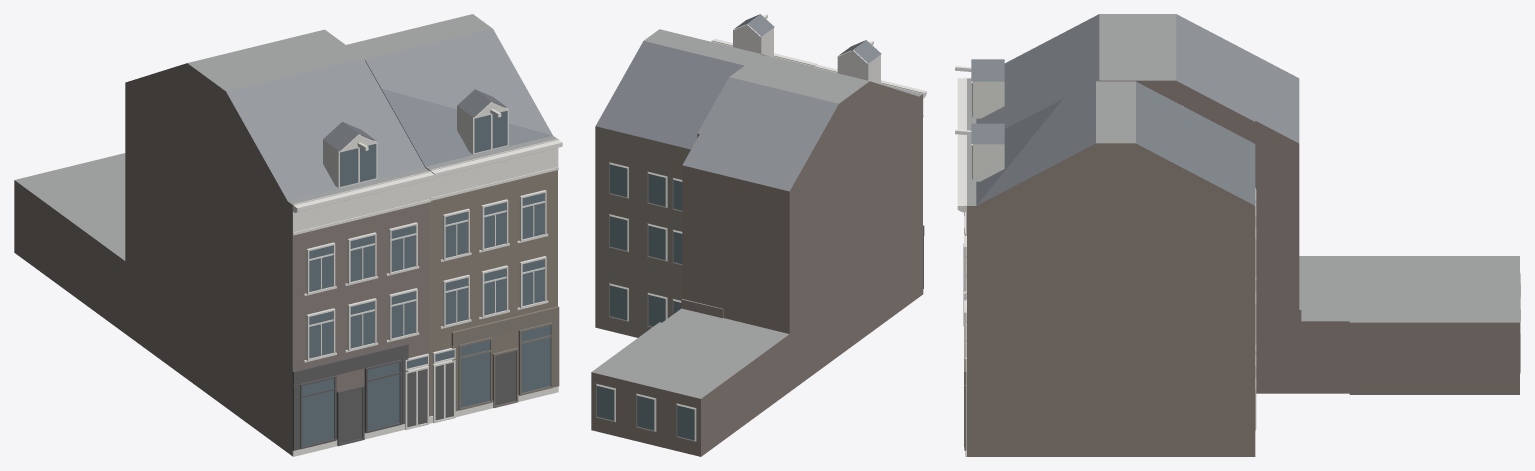
File: chunk-face-bol-12-22-r2.glb
3 views of the same model, side by side, from view 1: azimuth 30°, elevation 25°; view 2: azimuth 150°, elevation 25°; view 3: azimuth 270°, elevation 25° (orthographic). The views are drawn at different scales.
Parts seen in each view (by area): view 1: face-bol-12-22-r2; view 2: face-bol-12-22-r2; view 3: face-bol-12-22-r2.
Part boxes in pixels (bbox=[...]): face-bol-12-22-r2: bbox=[14, 14, 562, 456]; face-bol-12-22-r2: bbox=[591, 14, 926, 456]; face-bol-12-22-r2: bbox=[955, 14, 1520, 456].
Bounding box in the file's own units: 12.96 × 14.75 × 24.07.
